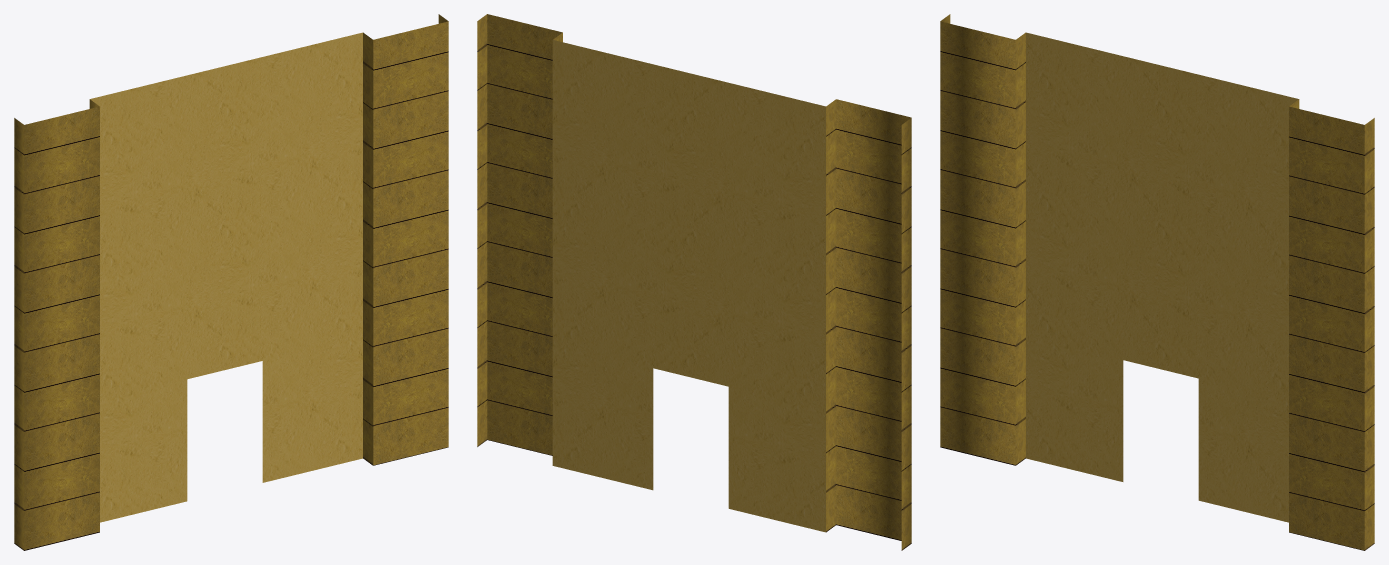
The model's file is sandstoneWallSmallDoorway.obj.
The picture shows the model from 3 angles, left to right: view 1: azimuth 30°, elevation 25°; view 2: azimuth 150°, elevation 25°; view 3: azimuth 330°, elevation 25°; orthographic projection.
Parts seen in each view (by area): view 1: panel_wall_two_small_doorway; view 2: panel_wall_two_small_doorway; view 3: panel_wall_two_small_doorway.
Part boxes in pixels (x1,y1,x2,y2): panel_wall_two_small_doorway: (14, 14, 448, 550); panel_wall_two_small_doorway: (477, 14, 911, 550); panel_wall_two_small_doorway: (940, 14, 1374, 550).
Bounding box in the file's own units: 730 × 700 × 30.
Materials: 2 (2 with a texture image).
